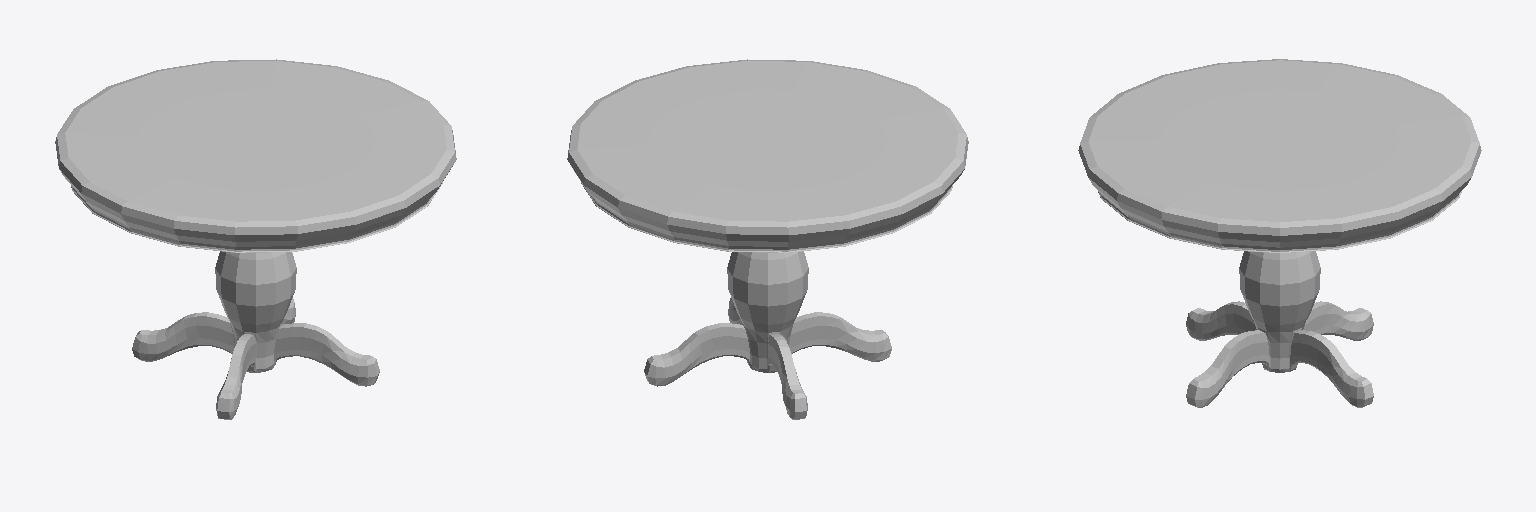
The model's file is table_LP.obj.
3 views of the same model, side by side, from view 1: azimuth 30°, elevation 25°; view 2: azimuth 150°, elevation 25°; view 3: azimuth 270°, elevation 25° (orthographic).
Parts seen in each view (by area): view 1: Table:polySurface7; view 2: Table:polySurface7; view 3: Table:polySurface7.
Part boxes in pixels (x1,y1,x2,y2): Table:polySurface7: (55,59,456,419); Table:polySurface7: (567,59,968,419); Table:polySurface7: (1078,59,1481,407).
Size of the model in its own units: 178 by 112 by 177.